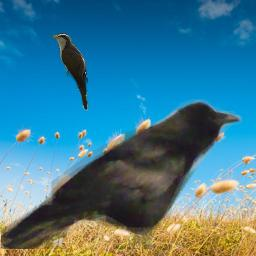Crow: (1, 99, 242, 249)
Cuckoo: (51, 33, 90, 111)
